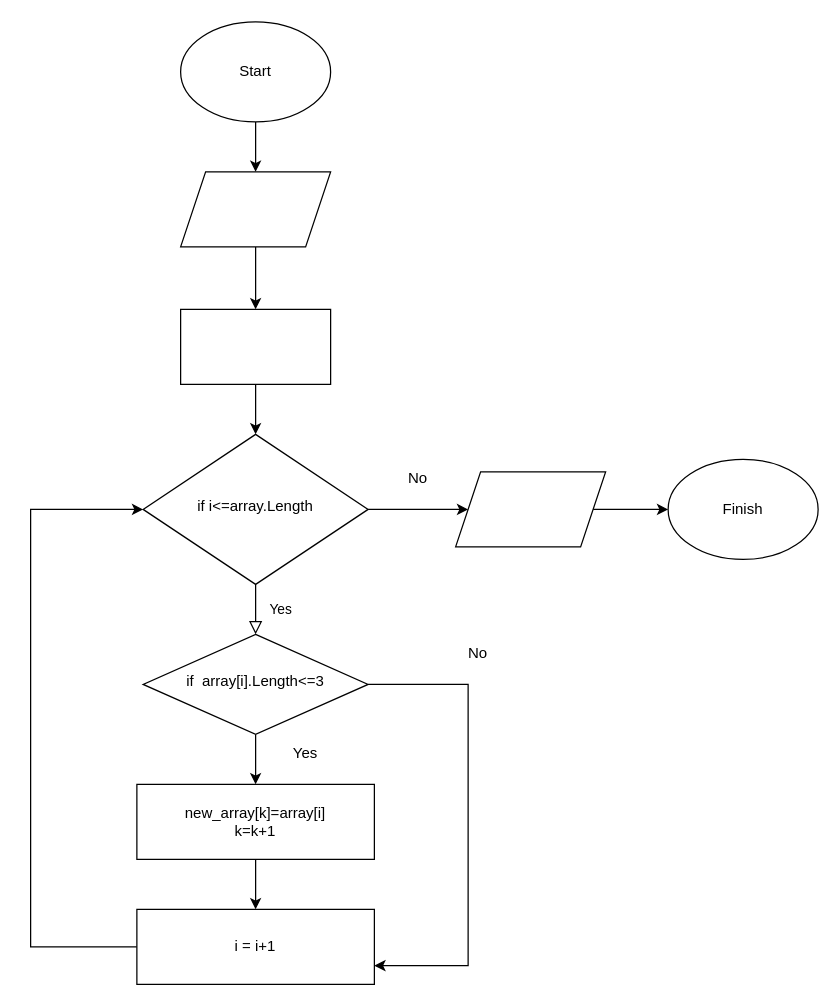
The diagram is 840 pixels wide and 1006 high, and some of its shapes have lost their labels. The box of each missing label's shape, as (x1, y1, x2, y2) in pixels:
i = 0, k=0: (179, 308, 331, 384)
Введите элементы массива: (179, 171, 331, 247)
Вывод массива new_array: (454, 471, 606, 547)
